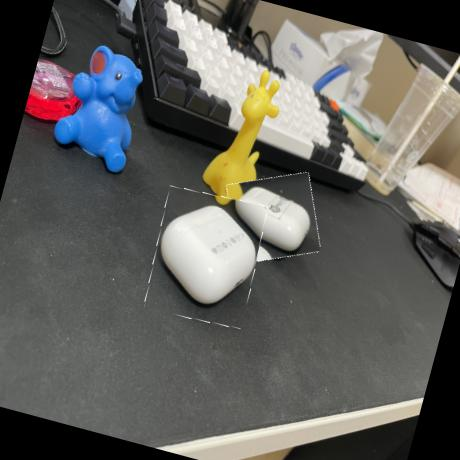airpod2: (214, 160, 332, 275)
airpod3: (138, 182, 272, 332)
